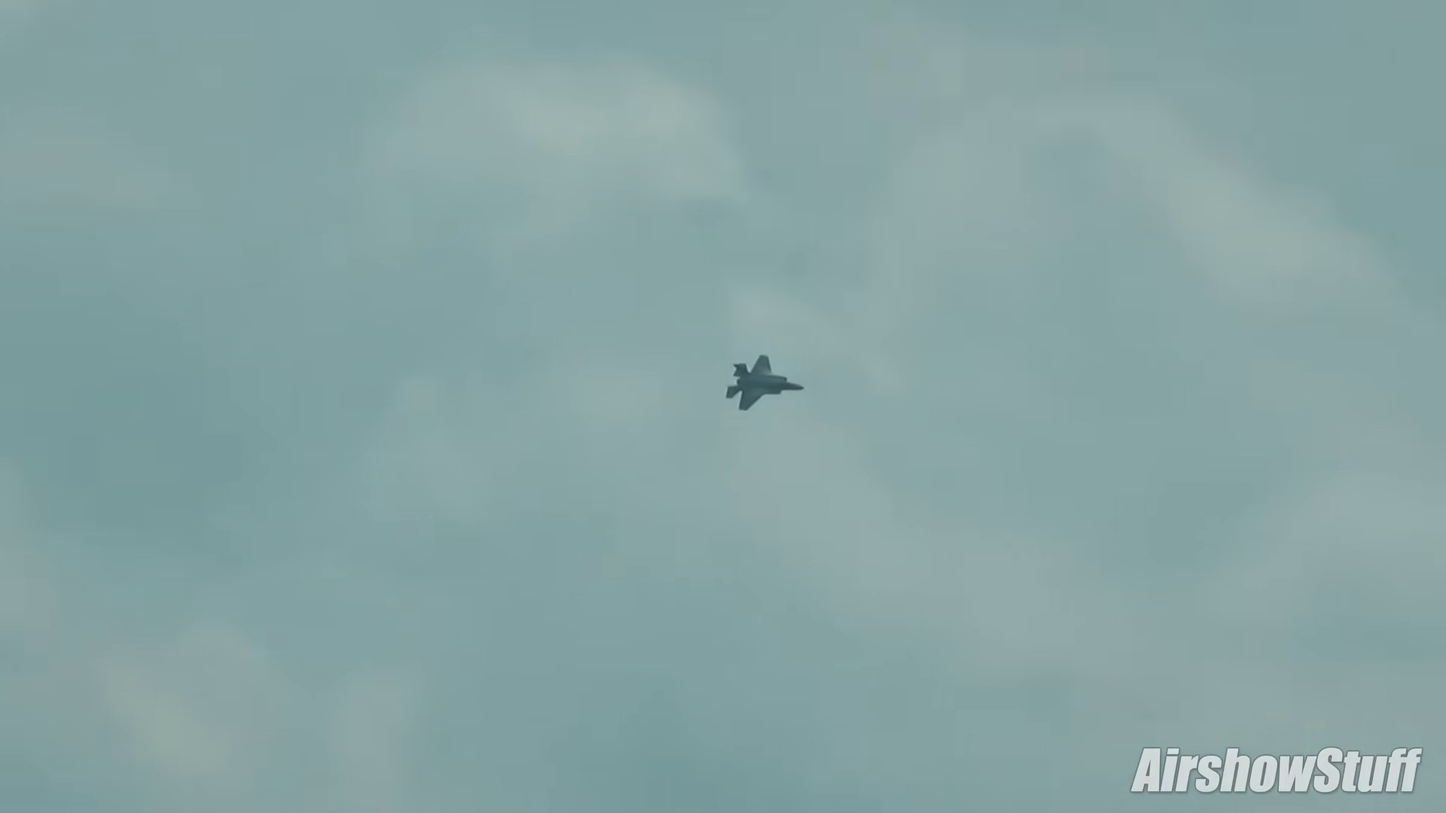F35: (725, 354, 807, 414)
